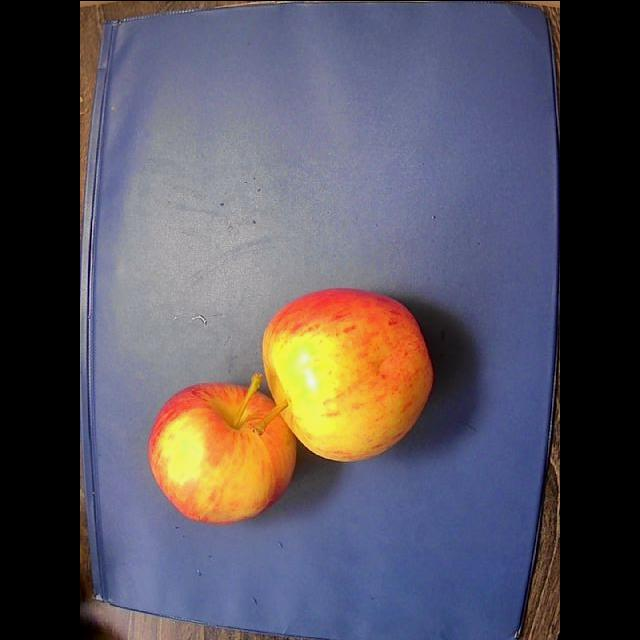manzana: (263, 288, 432, 460), (148, 373, 295, 523)
